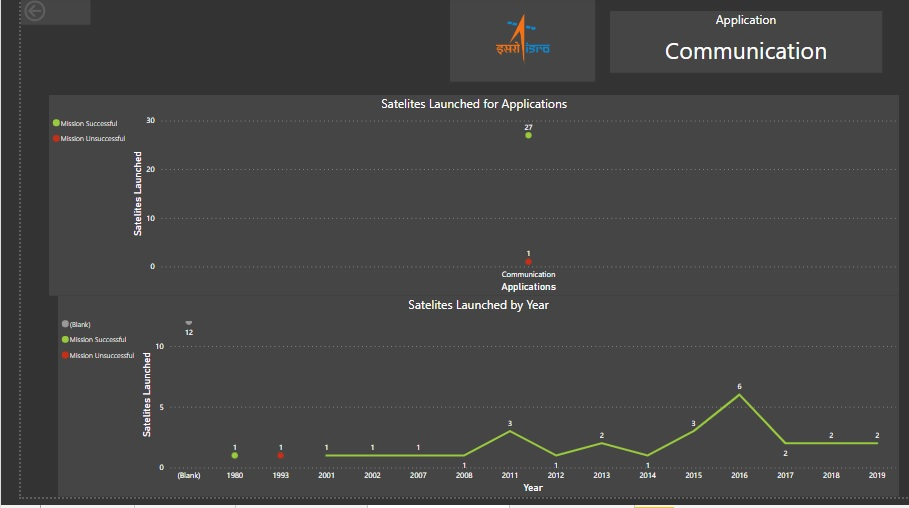

What the dashboard file says about the page in this screenshot:
{"tool":"powerbi","page":{"name":"Spacecrafts details","canvas":[1280,720],"ordinal":3},"visuals":[{"type":"image","box":[617.8,0,208.8,122.4],"z":0},{"type":"areaChart","title":"Satelites Launched for Applications","fields":{"Category":["spacecrafts.Applications"],"Series":["launchers.Remarks"],"Y":["CountNonNull(launchers.SN)"]},"box":[40.3,141.1,1224,289.4],"z":1000},{"type":"lineChart","title":"Satelites Launched by Year","fields":{"Category":["launchers.Year"],"Series":["launchers.Remarks"],"Y":["CountNonNull(spacecrafts.SN)"]},"box":[53.3,430.6,1211,289.4],"z":2000},{"type":"actionButton","box":[0,0,100,40],"z":3000},{"type":"card","title":"Application","fields":{"Values":["Min(spacecrafts.Applications)"]},"box":[848.2,20.2,391.7,89.3],"z":3001}]}

Visuals, with their boxes in screenshot pixels (x1, y1, x2, y2), scaled from the page's 1280x720 canvas onto the 909x508 screenshot:
image: 439,0,587,86
"Satelites Launched for Applications" areaChart: 29,100,898,304
"Satelites Launched by Year" lineChart: 38,304,898,507
actionButton: 0,0,71,28
"Application" card: 602,14,881,77
